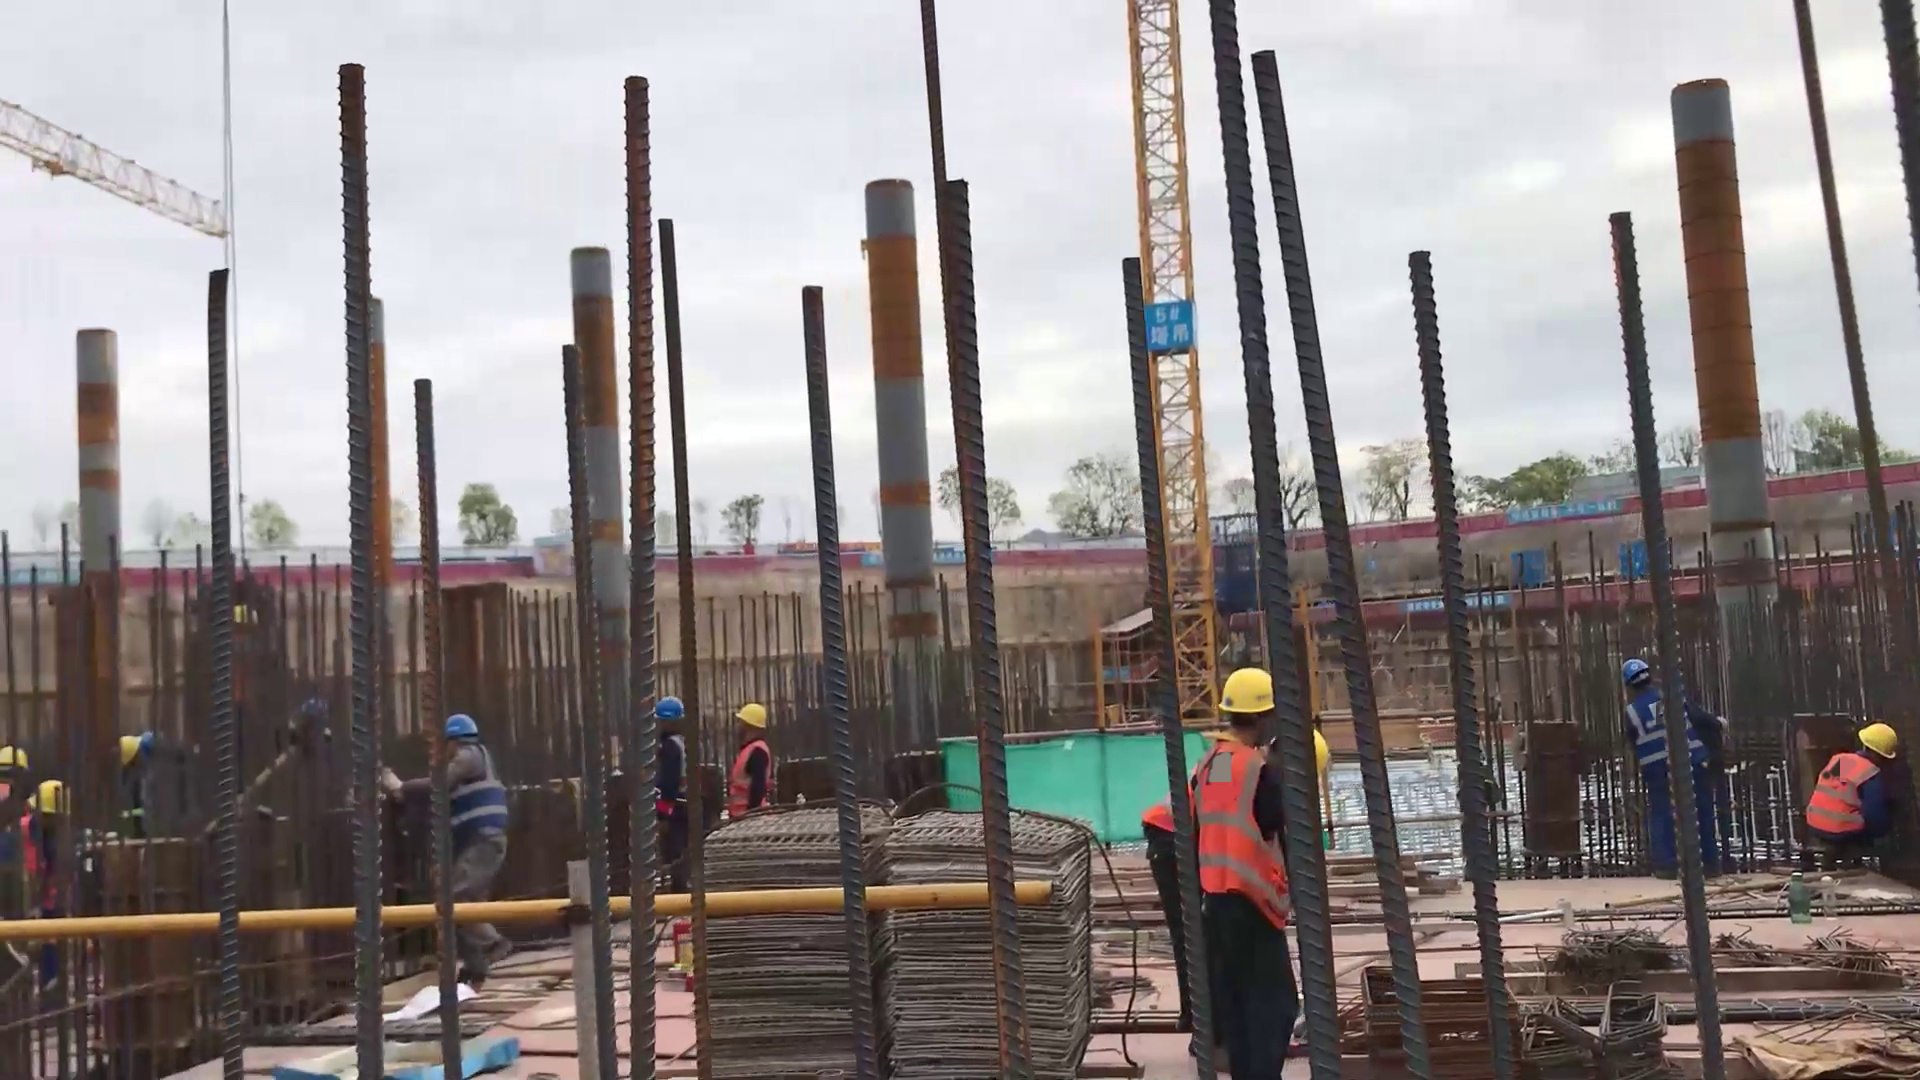fence: (997, 500, 1143, 597), (687, 520, 814, 610), (1771, 439, 1871, 522), (1352, 500, 1433, 565), (439, 540, 540, 591), (1661, 462, 1707, 532)
helmet: (1212, 668, 1273, 735), (1854, 719, 1911, 774), (21, 776, 75, 822), (116, 731, 158, 780), (439, 708, 494, 743), (729, 697, 767, 729), (1627, 650, 1654, 692), (5, 743, 28, 780), (654, 699, 682, 723)
person: (1182, 653, 1306, 1080), (1604, 645, 1732, 876), (439, 712, 516, 962), (1794, 708, 1909, 872), (716, 701, 786, 833), (658, 696, 697, 866)
slogan: (1498, 491, 1636, 536), (1145, 300, 1200, 353)
vest: (1195, 735, 1285, 922), (1801, 751, 1885, 849), (444, 750, 516, 849), (1620, 690, 1682, 783), (720, 738, 781, 823)
